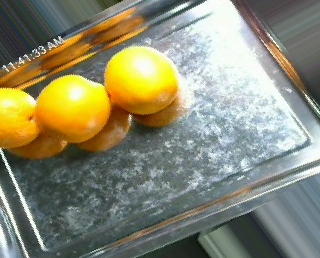Orange: (34, 73, 110, 145), (104, 45, 178, 115)
